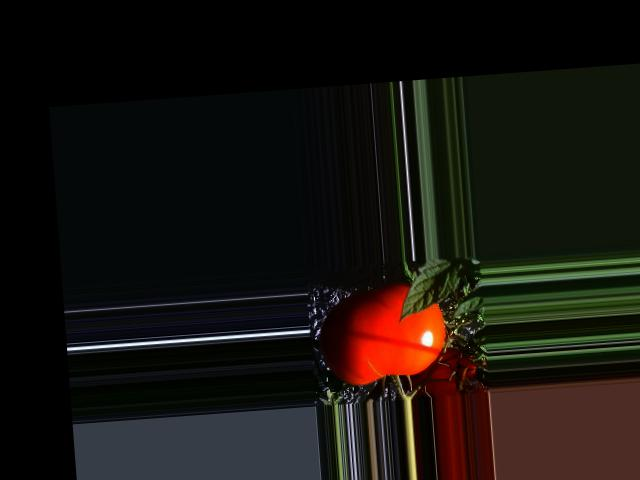tomato: (316, 279, 449, 387)
